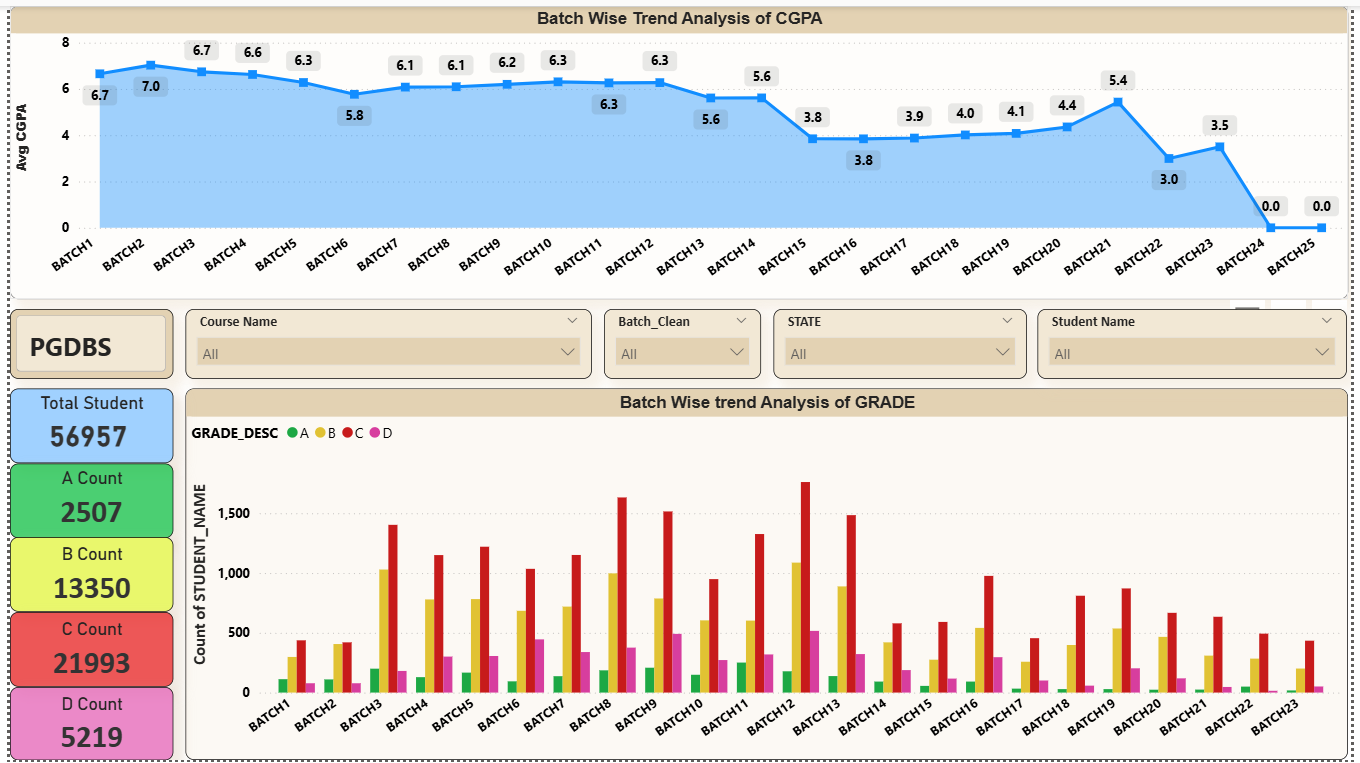

The dashboard page shown, as its layout file describes it:
{"tool":"powerbi","page":{"name":"Trend Analysis","canvas":[1280,720],"ordinal":1},"visuals":[{"type":"lineChart","title":"Batch Wise Trend Analysis of CGPA","fields":{"Category":["Batch Wise Table.Batch"],"Y":["Master Table.Avg CGPA"]},"box":[0,0,1278,279.9],"z":0},{"type":"advancedSlicerVisual","fields":{"Values":["Master Table.PROGRAM"]},"box":[0,289.5,155.9,66.8],"z":1000},{"type":"slicer","fields":{"Values":["Master Table.COURSE_NAME"]},"box":[167,289.5,388.1,66.8],"z":2000},{"type":"slicer","fields":{"Values":["Master Table.Batch_Clean"]},"box":[567.8,289.5,150,66.8],"z":3000},{"type":"slicer","fields":{"Values":["Master Table.STATE"]},"box":[728.5,289.5,242,66.8],"z":4000},{"type":"clusteredColumnChart","title":"Batch Wise trend Analysis of GRADE","fields":{"Category":["Batch Wise Table.Batch"],"Series":["Master Table.GRADE_DESC"],"Y":["CountNonNull(Master Table.STUDENT_NAME)"]},"box":[167,365.8,1110.2,354.7],"z":5000},{"type":"advanceCardE03760C5AB684758B56AA29F9E6C257B","title":"Total Student","fields":{"mainMeasure":["CountNonNull(Master Table.STUDENT_NAME)"]},"box":[0,365.8,155.9,71],"z":6000},{"type":"advanceCardE03760C5AB684758B56AA29F9E6C257B","title":"A Count","fields":{"mainMeasure":["Master Table.A Count"]},"box":[0,437.4,155.9,71],"z":7000},{"type":"advanceCardE03760C5AB684758B56AA29F9E6C257B","title":"B Count","fields":{"mainMeasure":["Master Table.B Count"]},"box":[0,507.4,155.9,71],"z":8000},{"type":"advanceCardE03760C5AB684758B56AA29F9E6C257B","title":"C Count","fields":{"mainMeasure":["Master Table.C Count"]},"box":[0,579,155.9,71],"z":9000},{"type":"advanceCardE03760C5AB684758B56AA29F9E6C257B","title":"D Count","fields":{"mainMeasure":["Master Table.D Count"]},"box":[0,650.6,155.9,70],"z":10000},{"type":"slicer","fields":{"Values":["Master Table.STUDENT_NAME"]},"box":[981.4,289.5,295,66.8],"z":11000}]}

Visuals, with their boxes in screenshot pixels (x1, y1, x2, y2), scaled from the page's 1280x720 canvas onto the 1360x763 screenshot:
"Batch Wise Trend Analysis of CGPA" lineChart: <box>0,0,1358,297</box>
advancedSlicerVisual - Master Table.PROGRAM: <box>0,307,166,378</box>
slicer - Master Table.COURSE_NAME: <box>177,307,590,378</box>
slicer - Master Table.Batch_Clean: <box>603,307,763,378</box>
slicer - Master Table.STATE: <box>774,307,1031,378</box>
"Batch Wise trend Analysis of GRADE" clusteredColumnChart: <box>177,388,1357,762</box>
"Total Student" advanceCardE03760C5AB684758B56AA29F9E6C257B: <box>0,388,166,463</box>
"A Count" advanceCardE03760C5AB684758B56AA29F9E6C257B: <box>0,464,166,539</box>
"B Count" advanceCardE03760C5AB684758B56AA29F9E6C257B: <box>0,538,166,613</box>
"C Count" advanceCardE03760C5AB684758B56AA29F9E6C257B: <box>0,614,166,689</box>
"D Count" advanceCardE03760C5AB684758B56AA29F9E6C257B: <box>0,689,166,762</box>
slicer - Master Table.STUDENT_NAME: <box>1043,307,1356,378</box>
